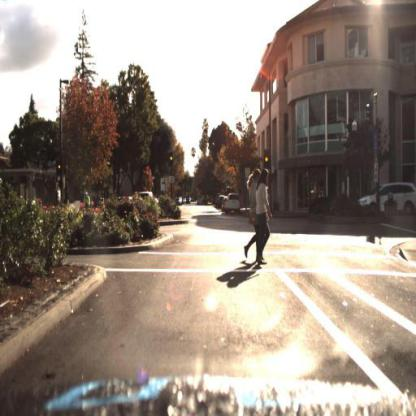biker: (81, 189, 93, 214)
car: (351, 166, 416, 239), (360, 180, 416, 219), (133, 187, 158, 215)
pedestrian: (243, 164, 260, 270), (259, 171, 271, 273)
trafficLight: (168, 152, 176, 168)
trafficLight-Yellow: (264, 150, 272, 171), (56, 163, 64, 183)
